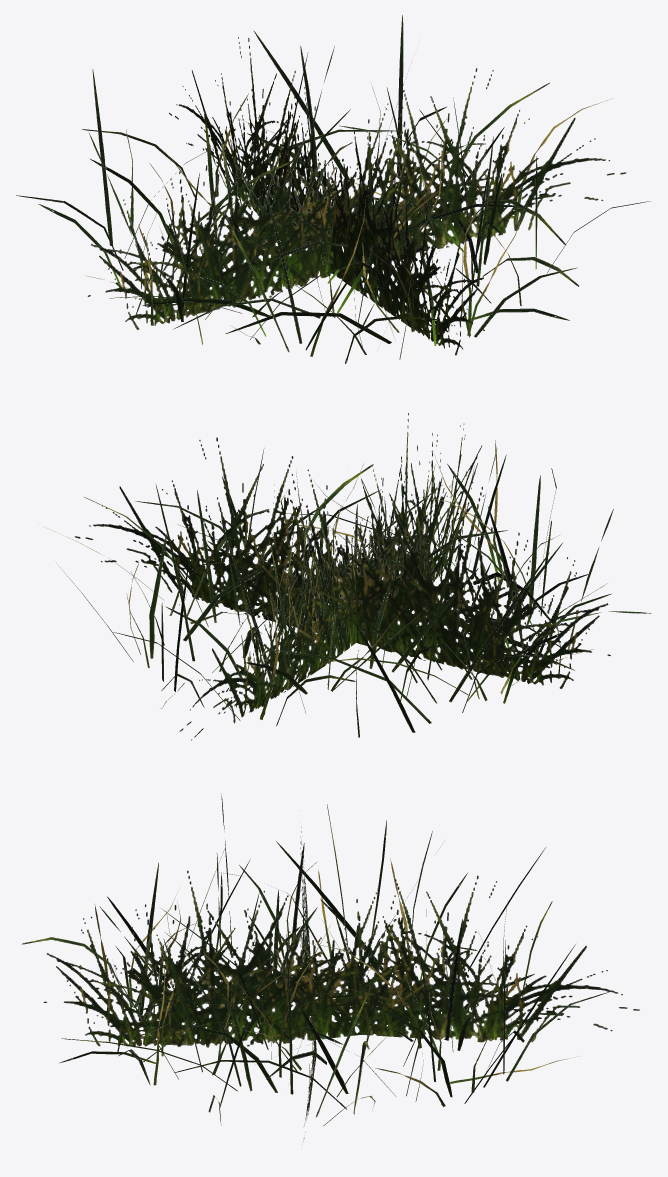
File: GrassPatchMedDetail.fbx
3 renders of one model, top to bottom at view 1: azimuth 30°, elevation 25°; view 2: azimuth 150°, elevation 25°; view 3: azimuth 270°, elevation 25°, orthographic. The views are drawn at different scales.
Visible parts, largest first — view 1: _n6k5_VarB_LOD3; view 2: _n6k5_VarB_LOD3; view 3: _n6k5_VarB_LOD3.
Boxes of the visible parts, x1,y1,x2,y2 form: _n6k5_VarB_LOD3: [16, 15, 650, 363]; _n6k5_VarB_LOD3: [47, 413, 651, 740]; _n6k5_VarB_LOD3: [22, 793, 639, 1141].
Bounding box in the file's own units: 55.29 × 17.65 × 54.04.
